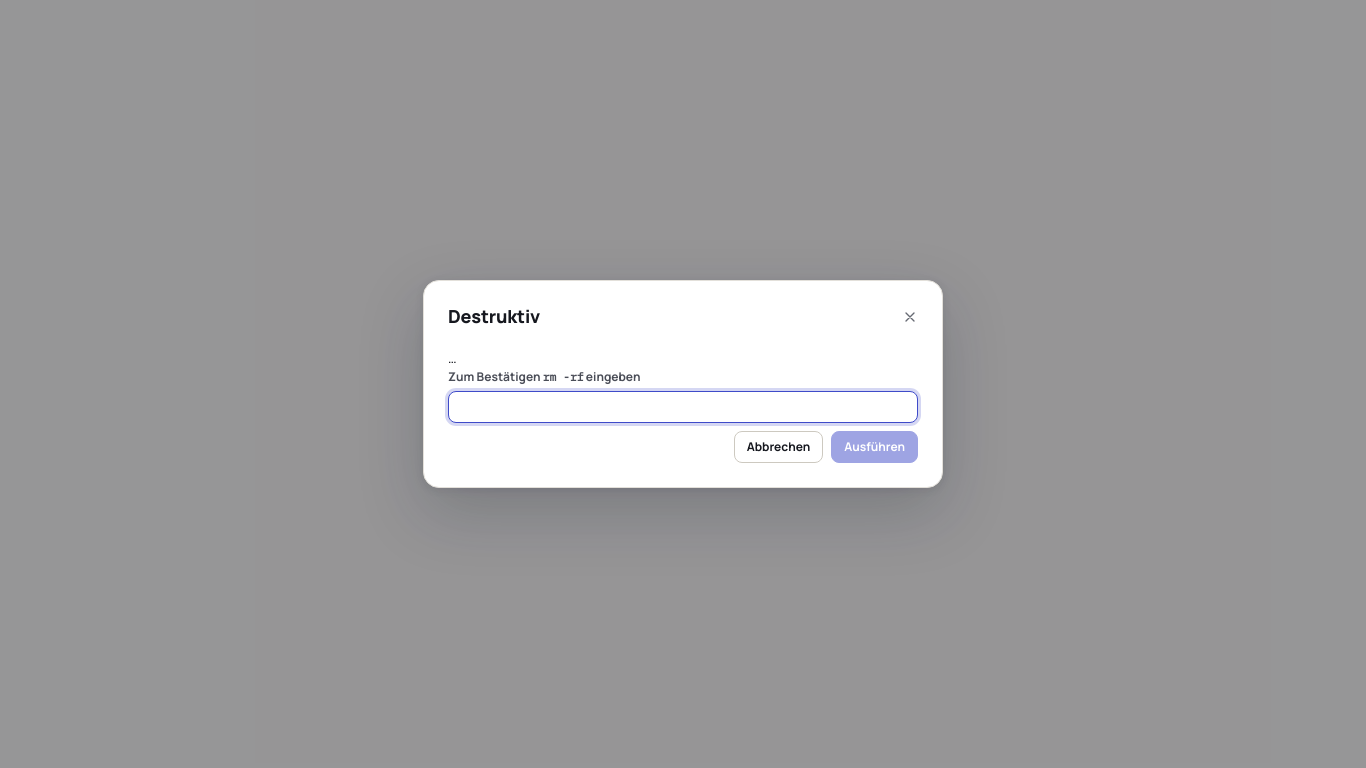
Test: ConfirmDialog › locks again when the typed text stops matching
The width and height of the screenshot is (1366, 768).
Type "rm -rf" into the field at (683, 407), box [448,391,918,423]
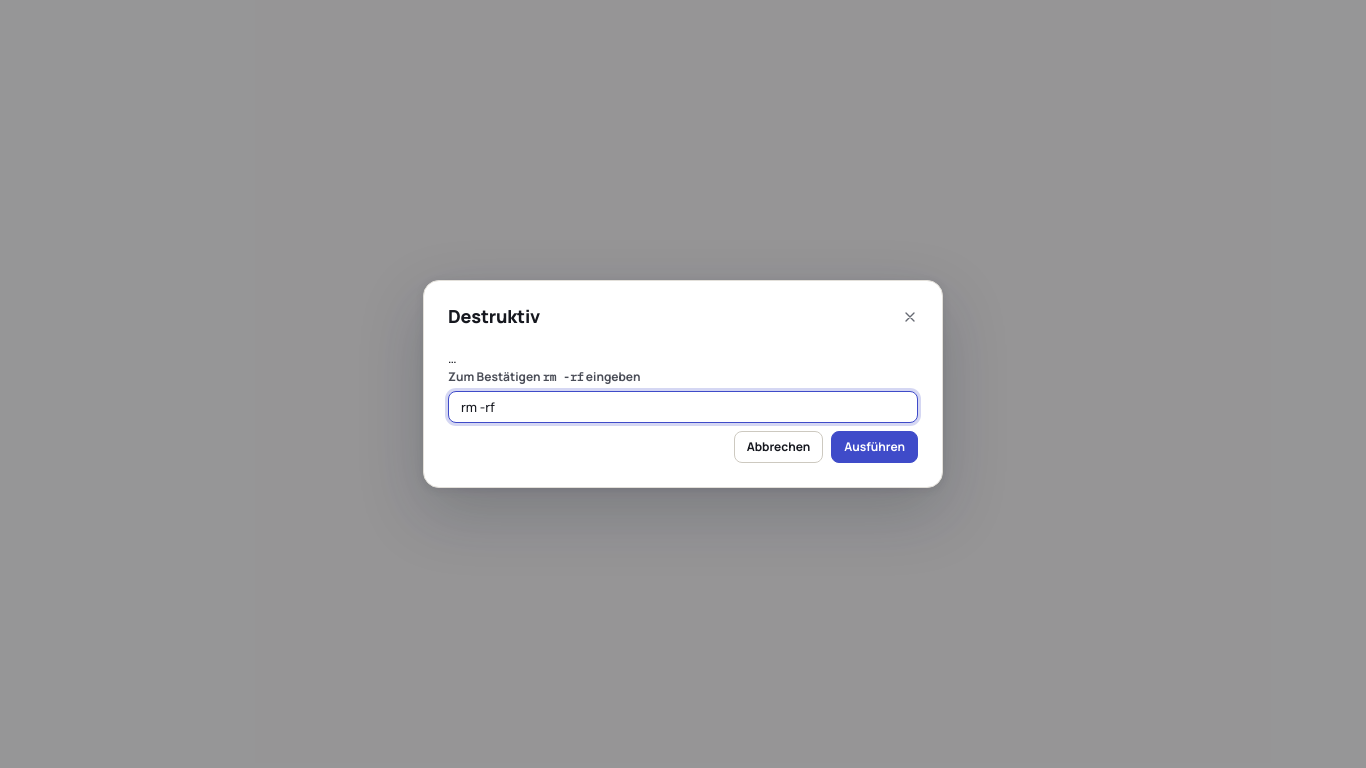
Expected: the button "Ausführen" is enabled, [831,431,918,463]
Type " /" into the field at (683, 407), box [448,391,918,423]
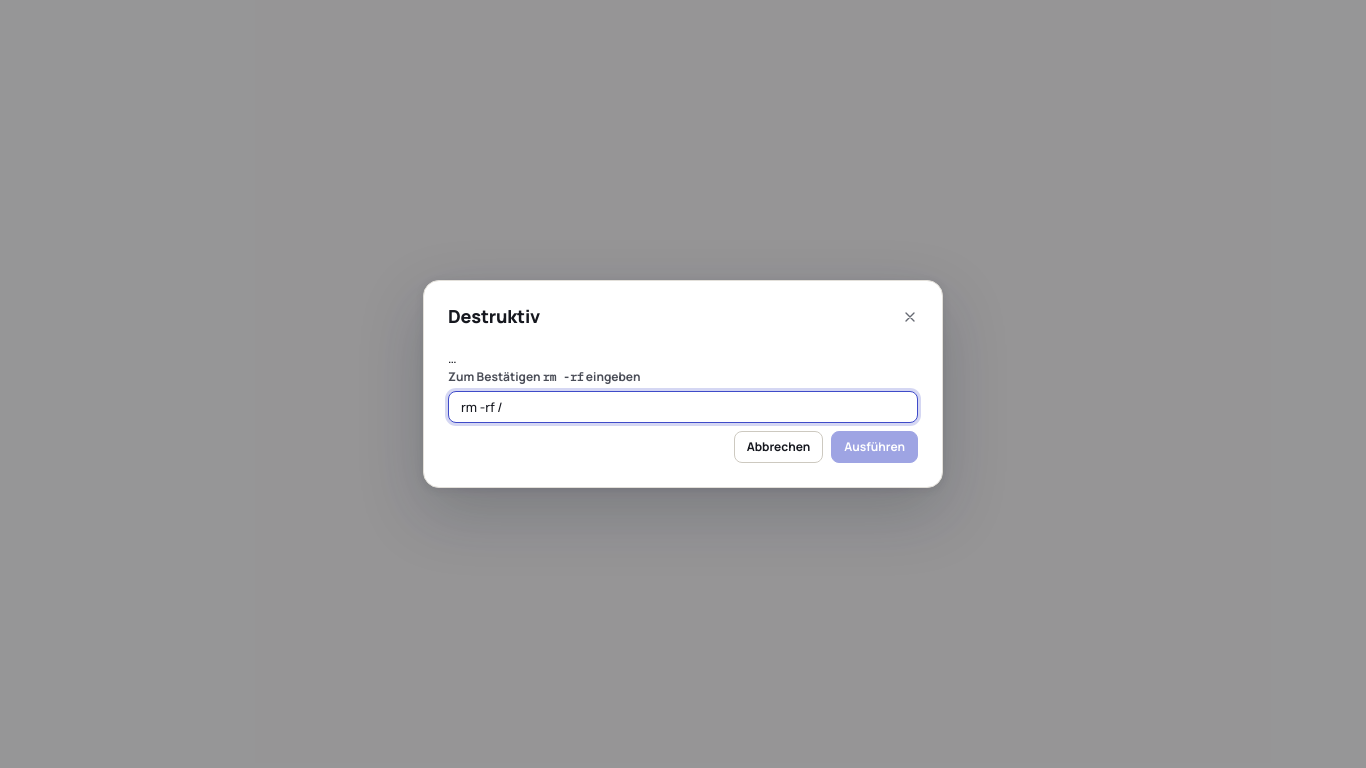
Expected: the button "Ausführen" is disabled, [831,431,918,463]
